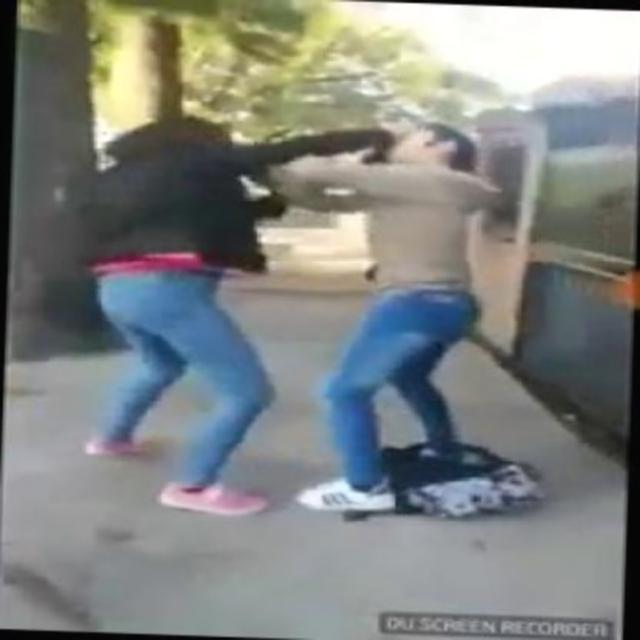fight: (89, 107, 494, 396)
